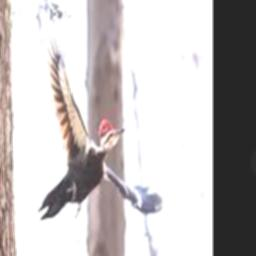Woodpecker: (38, 21, 164, 219)
